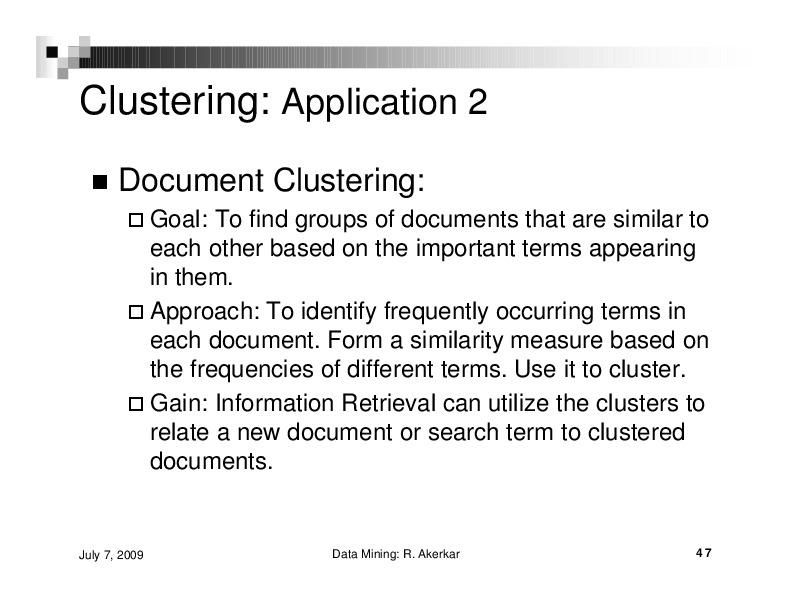paragraph: (86, 143, 721, 504)
subtitle: (67, 533, 723, 573), (115, 159, 437, 205)
title: (77, 71, 504, 129)
